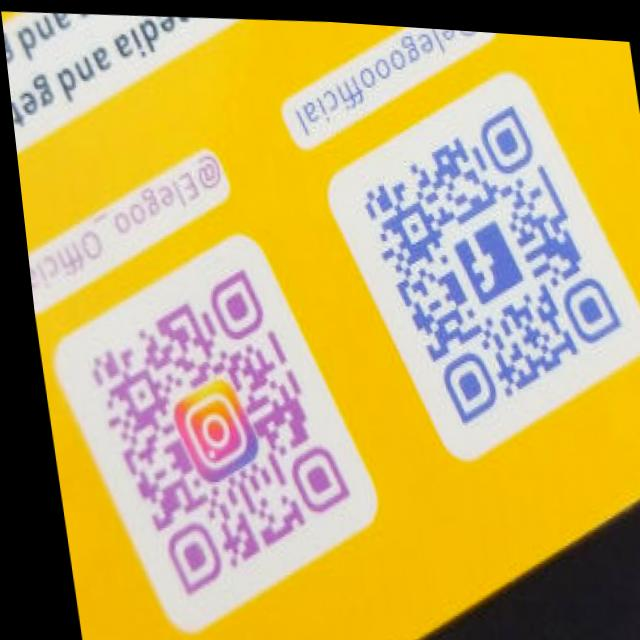QR_CODE: (53, 232, 364, 617), (331, 76, 637, 442)
